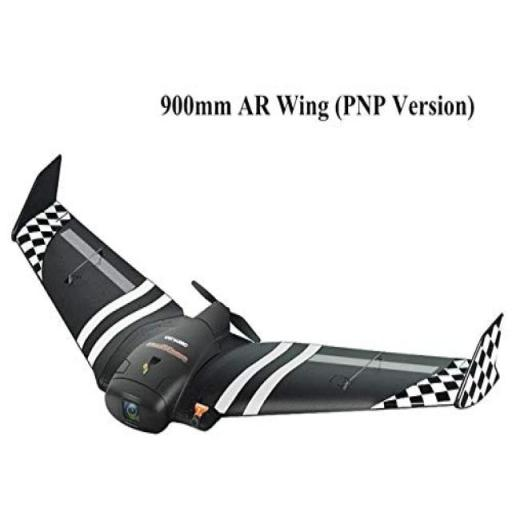uav: (9, 152, 507, 446)
